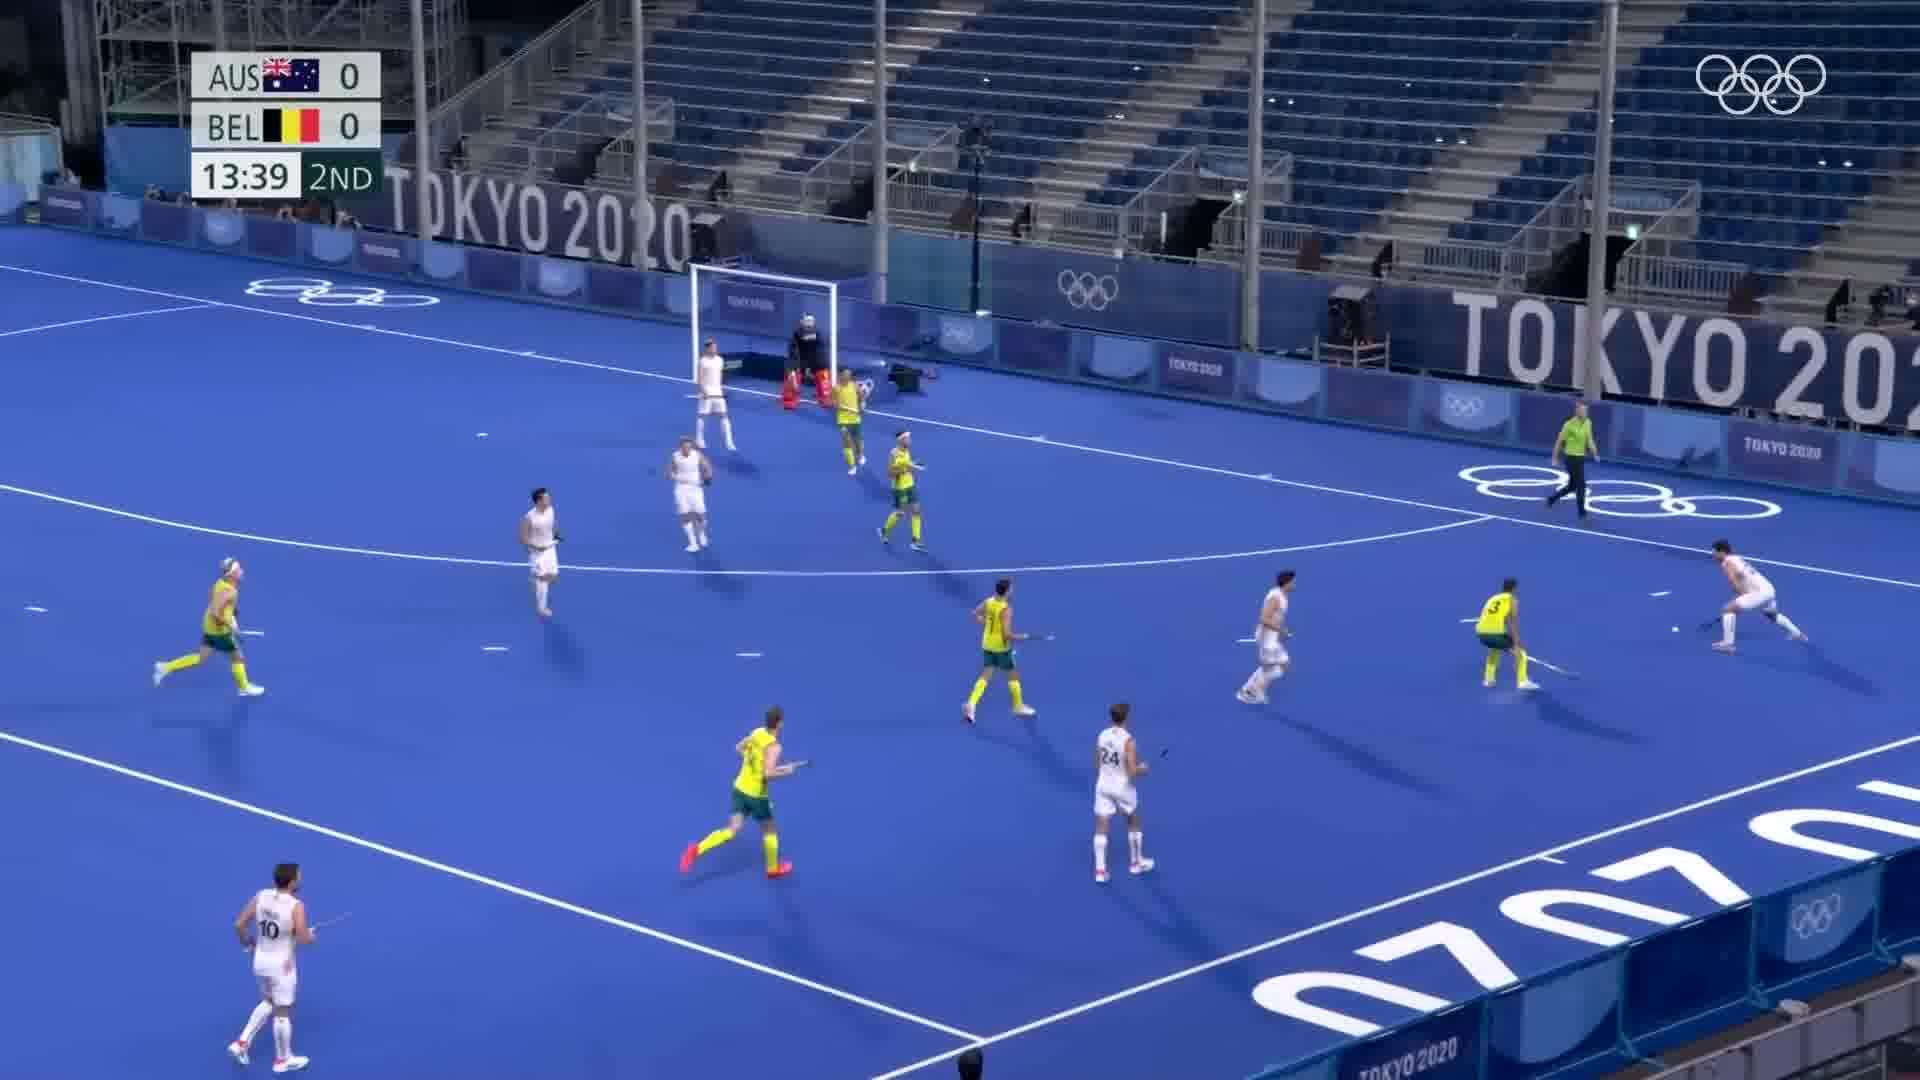ball: (1665, 622, 1683, 637)
